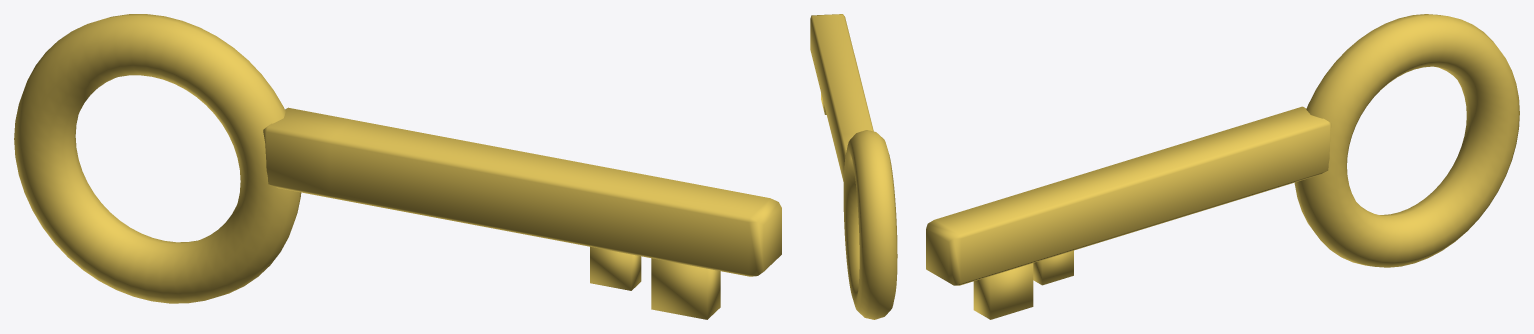
The model's file is key.fbx.
3 renders of one model, left to right at view 1: azimuth 30°, elevation 25°; view 2: azimuth 150°, elevation 25°; view 3: azimuth 270°, elevation 25°, orthographic. The views are drawn at different scales.
Parts seen in each view (by area): view 1: Torus; view 2: Torus; view 3: Torus.
Boxes of the visible parts, x1,y1,x2,y2 form: Torus: [14, 14, 781, 319]; Torus: [810, 14, 897, 319]; Torus: [926, 14, 1519, 319].
Bounding box in the file's own units: 209 × 125 × 278.
